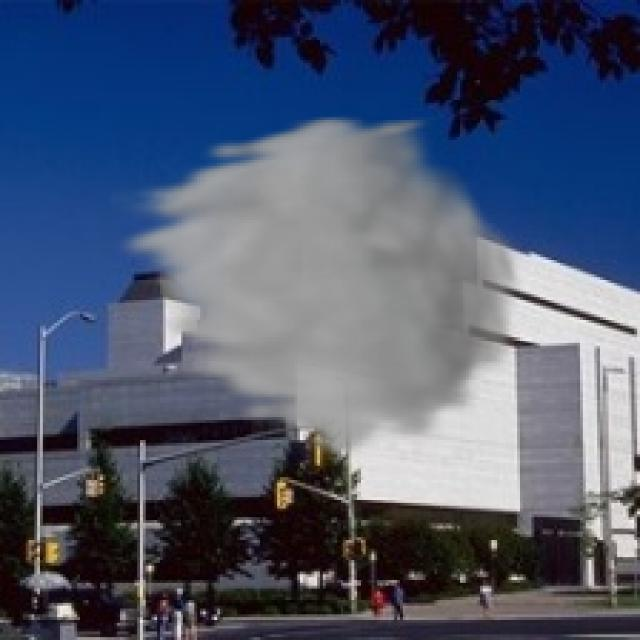smoke: (106, 111, 528, 460)
